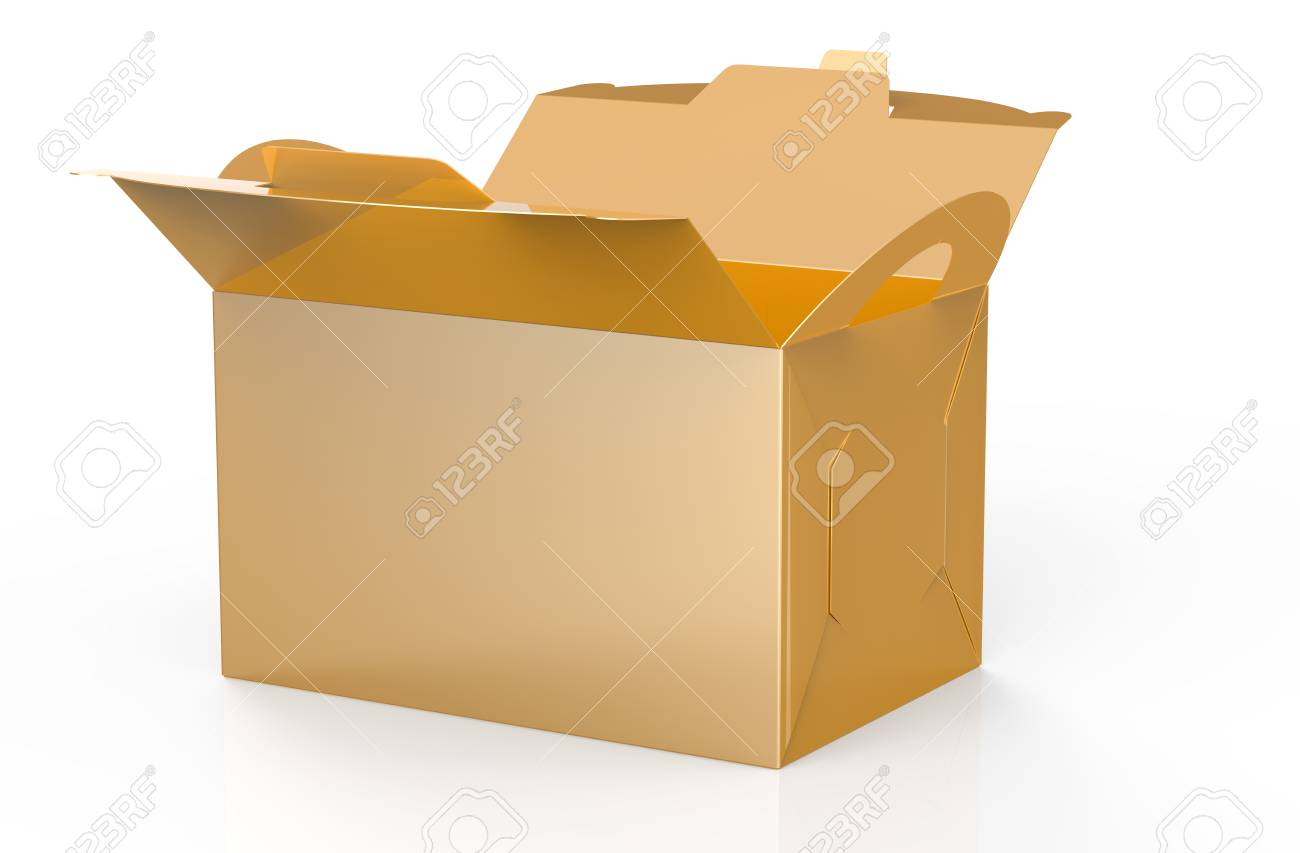Rec_Paper: (119, 54, 1100, 729)
